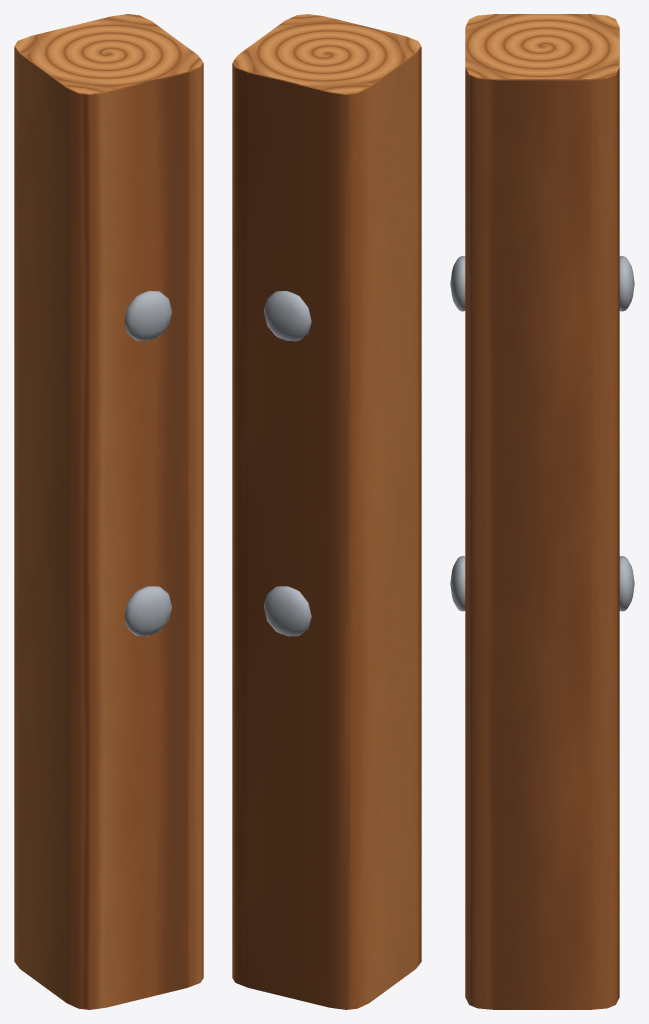
Rendered from fence_post.glb.
3 renders of one model, left to right at view 1: azimuth 30°, elevation 25°; view 2: azimuth 150°, elevation 25°; view 3: azimuth 270°, elevation 25°, orthographic.
Parts seen in each view (by area): view 1: model; view 2: model; view 3: model.
Part boxes in pixels (x1=…): model: x1=14, y1=14, x2=203, y2=1009; model: x1=232, y1=14, x2=421, y2=1009; model: x1=450, y1=14, x2=634, y2=1009.
Bounding box in the file's own units: 0.1491 × 0.9932 × 0.1783.
3 materials, 2 textured.
